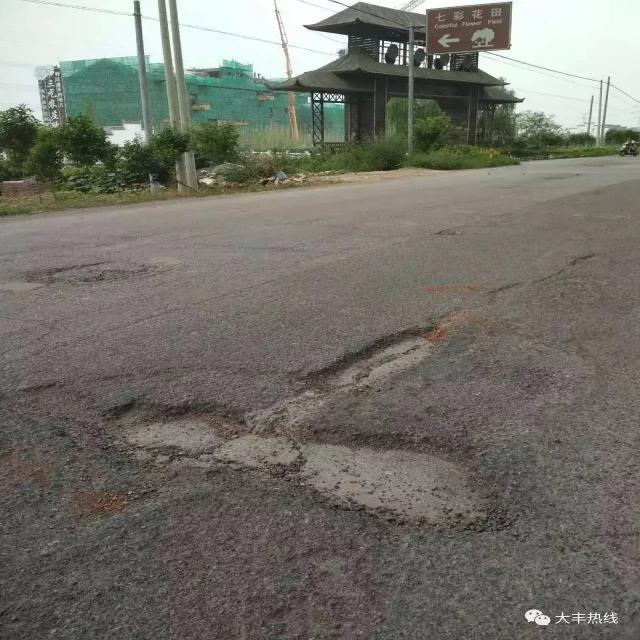Pothole: (71, 391, 538, 541), (295, 317, 441, 405), (464, 248, 604, 308), (34, 262, 182, 294), (436, 222, 471, 245)
